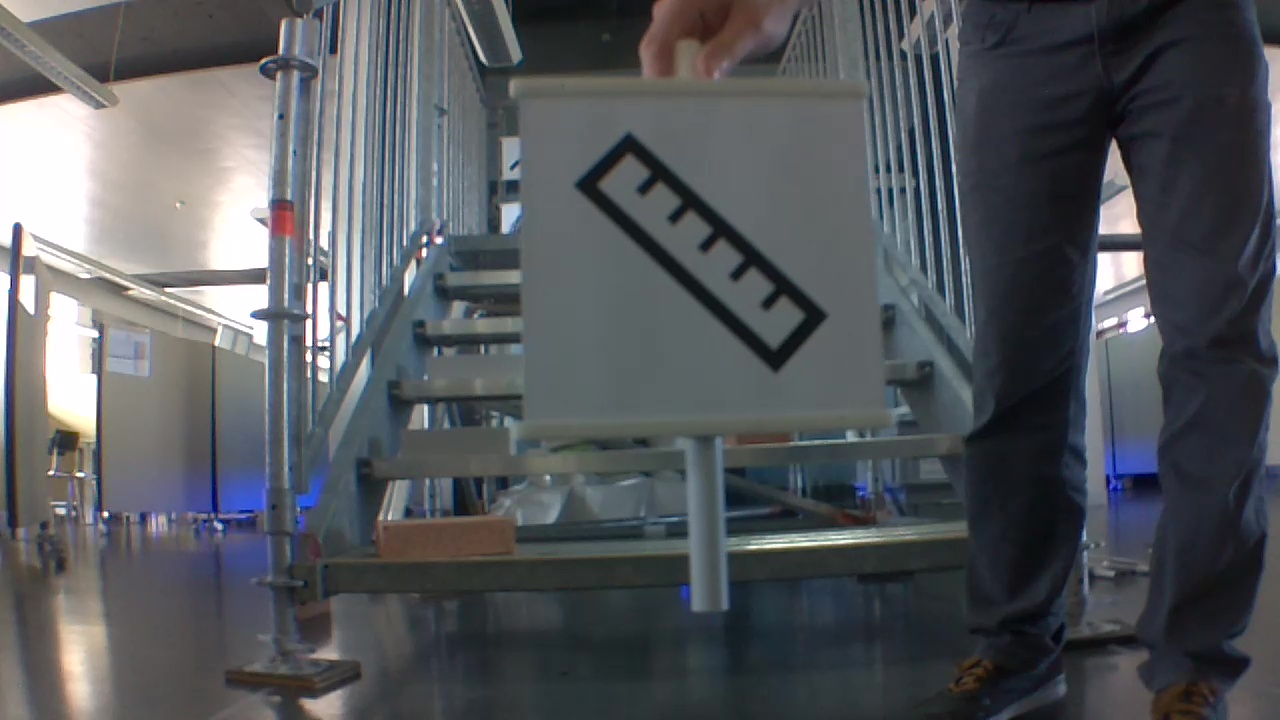brick: (368, 512, 523, 561), (397, 427, 513, 456), (423, 355, 520, 378)
edge: (302, 524, 962, 587), (360, 438, 971, 483)
ruler: (569, 125, 833, 378)
